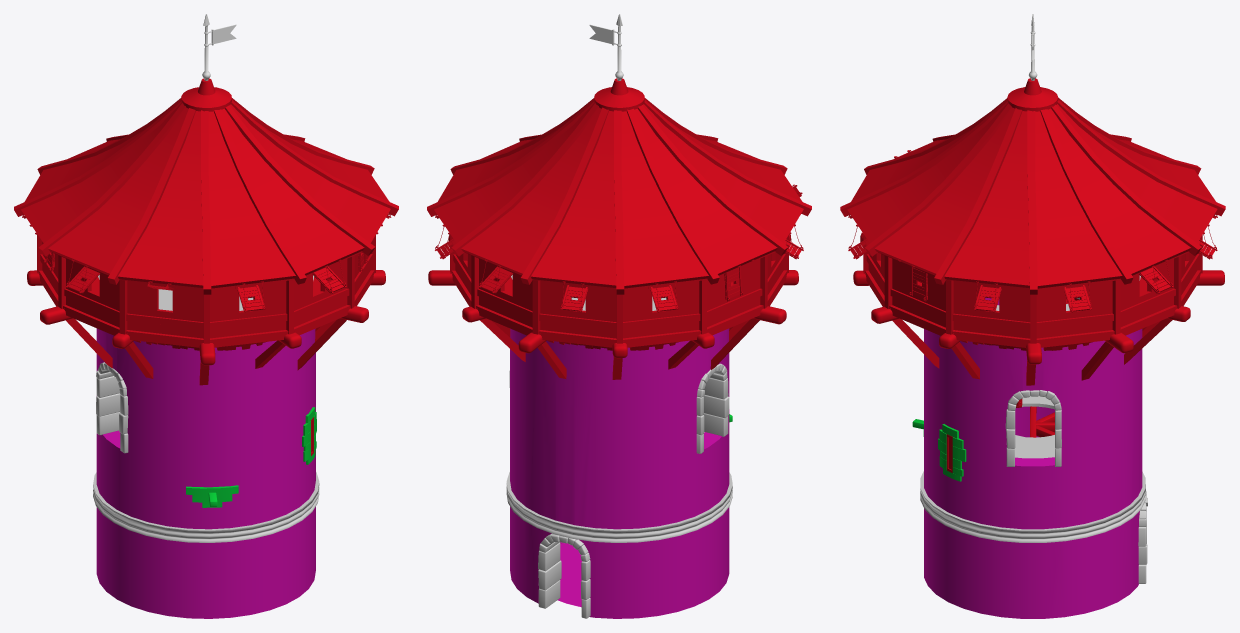
Rendered from Tower_4.fbx.
3 renders of one model, left to right at view 1: azimuth 30°, elevation 25°; view 2: azimuth 150°, elevation 25°; view 3: azimuth 270°, elevation 25°, orthographic.
Parts seen in each view (by area): view 1: Group_4.007, Tower_1.004, Group_2, Group_2.007, Group_4.011; view 2: Group_4.007, Tower_1.004, Group_4.011; view 3: Group_4.007, Tower_1.004, Cylinder.002, Group_2.007.
Part boxes in pixels (box(x1,y1,x2,y2)): Group_4.007: box(14, 78, 398, 385); Tower_1.004: box(93, 328, 319, 618); Group_2: box(186, 485, 238, 507); Group_2.007: box(302, 407, 316, 464); Group_4.011: box(202, 14, 236, 80); Group_4.007: box(427, 78, 811, 379); Tower_1.004: box(506, 328, 732, 618); Group_4.011: box(589, 14, 623, 80); Group_4.007: box(840, 78, 1225, 385); Tower_1.004: box(920, 297, 1147, 618); Cylinder.002: box(996, 275, 1140, 458); Group_2.007: box(938, 424, 966, 481).
Size of the model in its own units: 1138 by 1813 by 1133.
